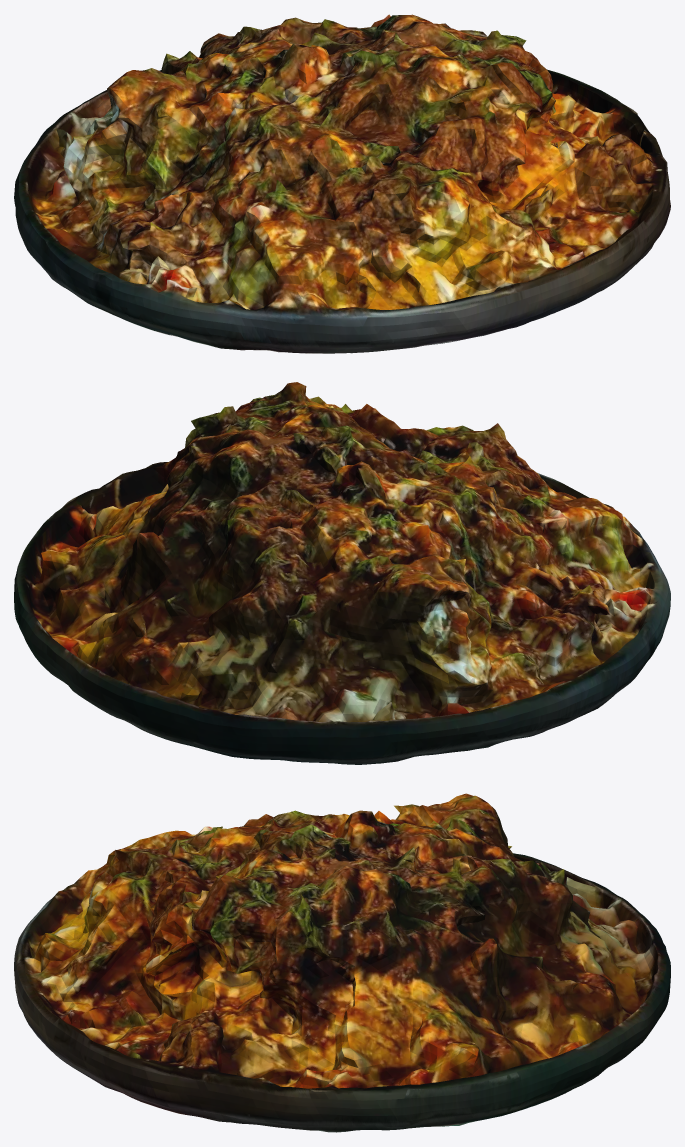
The model's file is plato19.glb.
3 views of the same model, one above another, from view 1: azimuth 30°, elevation 25°; view 2: azimuth 150°, elevation 25°; view 3: azimuth 270°, elevation 25° (orthographic).
Visible parts, largest first — view 1: Mesh_0; view 2: Mesh_0; view 3: Mesh_0.
Part boxes in pixels (x1,y1,x2,y2): Mesh_0: (14,14,670,353); Mesh_0: (14,382,670,764); Mesh_0: (14,793,670,1132).
Bounding box in the file's own units: 0.7261 × 0.2461 × 0.7256.
1 material, 1 textured.
